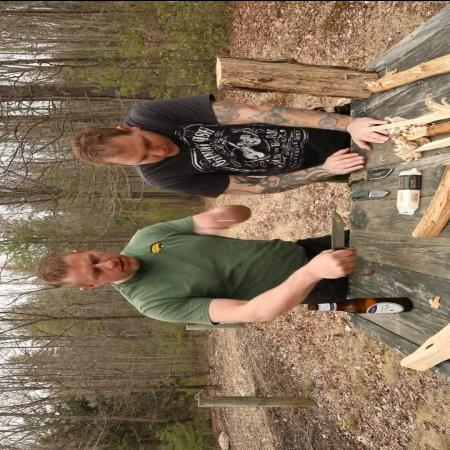long weapon: (316, 205, 362, 274)
